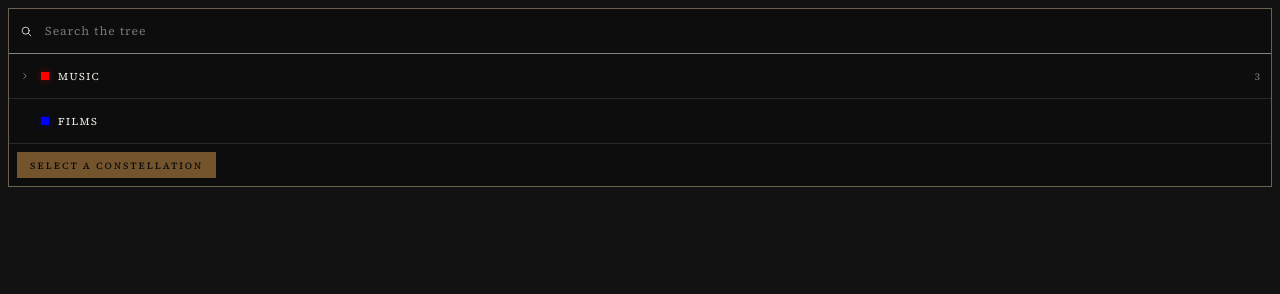
Test case: ConstellationPicker › search in the tree › leaves the tree unfolded down to the selection once the search is cleared
Type "i" into the field labelled "Search the tree".
click(654, 31); type("i")  # box 37,9 -> 1271,53
Then press Enter
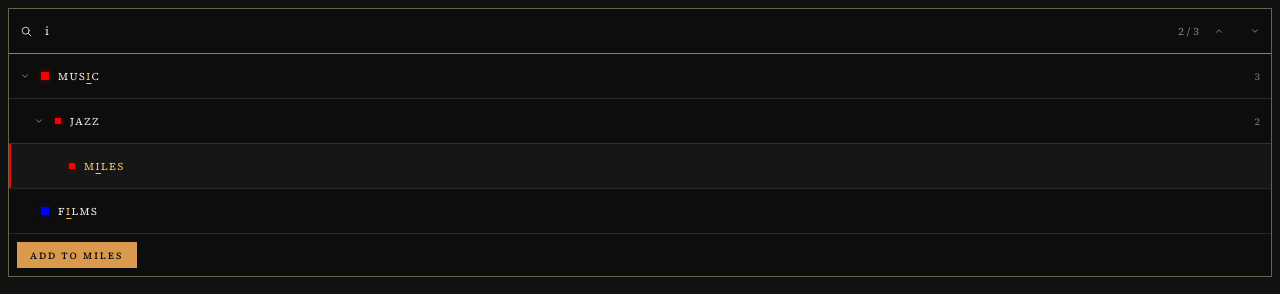
Clear the field named "Search the tree" at point(606, 31), box 37,9 -> 1174,53
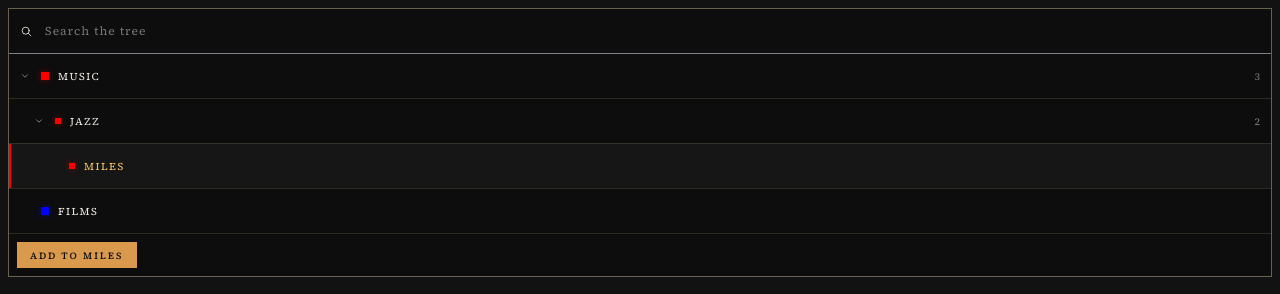
Check: the button "Add to Miles" is enabled, box 17,242 -> 136,268
Check: the text "2 / 3" is gone
